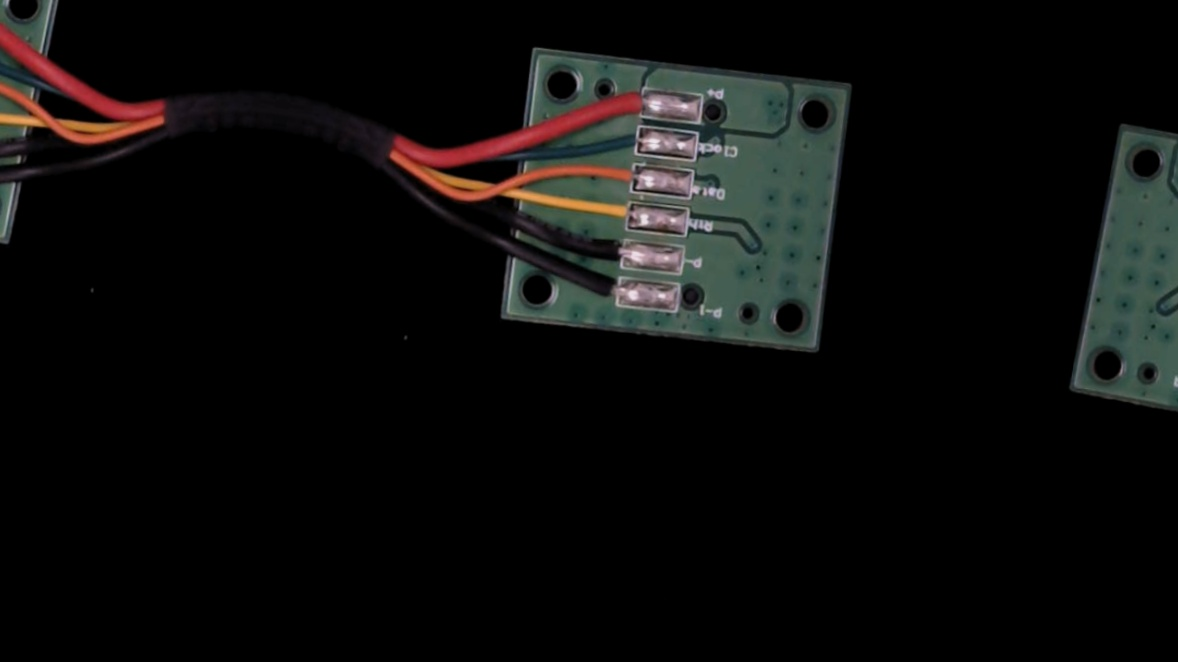Black: (576, 232, 643, 269)
Black1: (575, 271, 637, 309)
Green: (592, 118, 659, 155)
Orange: (588, 156, 654, 191)
Red: (590, 80, 663, 123)
Yellow: (582, 194, 648, 233)
